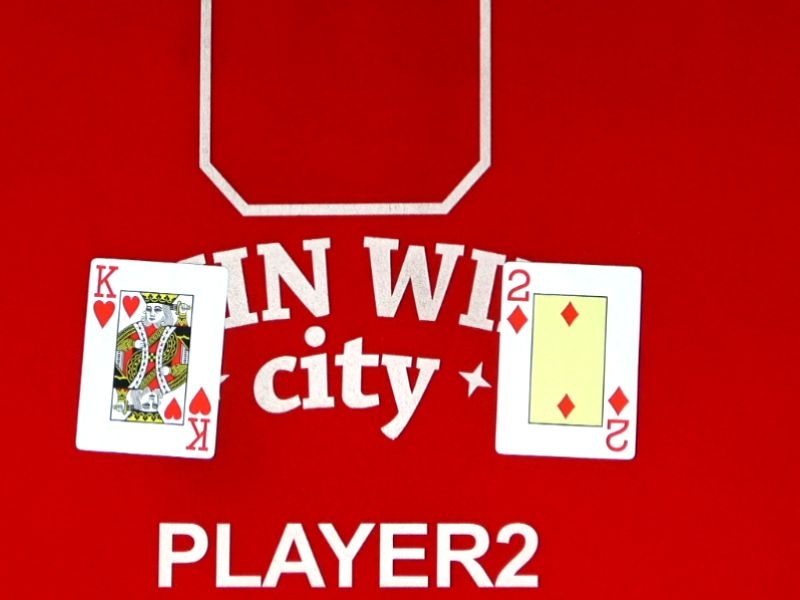2D: (478, 263, 558, 339), (580, 383, 656, 453)
KH: (68, 259, 144, 329), (162, 389, 235, 456)
